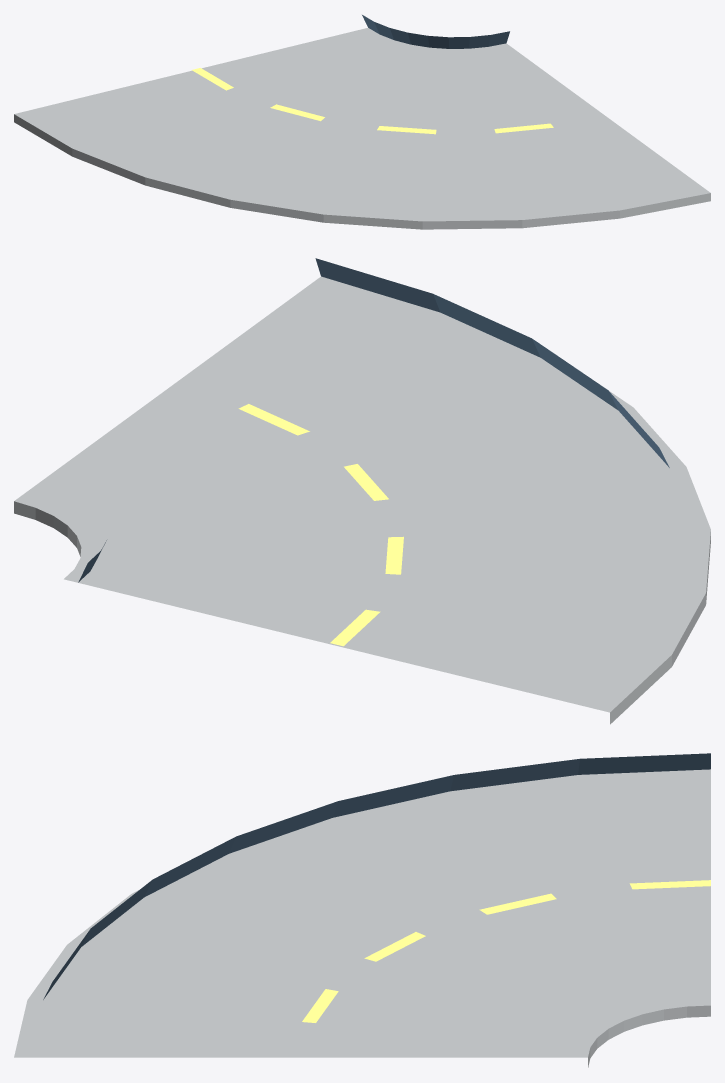
Rendered from road_industrial_x_curve.glb.
3 renders of one model, top to bottom at view 1: azimuth 30°, elevation 25°; view 2: azimuth 150°, elevation 25°; view 3: azimuth 270°, elevation 25°, orthographic. The views are drawn at different scales.
Parts seen in each view (by area): view 1: body; view 2: body; view 3: body.
Boxes of the visible parts, box(x1,y1,x2,y2) form: body: box(14, 15, 710, 229); body: box(14, 258, 710, 724); body: box(14, 753, 710, 1067).
Size of what is drawn, in the model's own units: 6.8 by 0.34 by 6.8.
